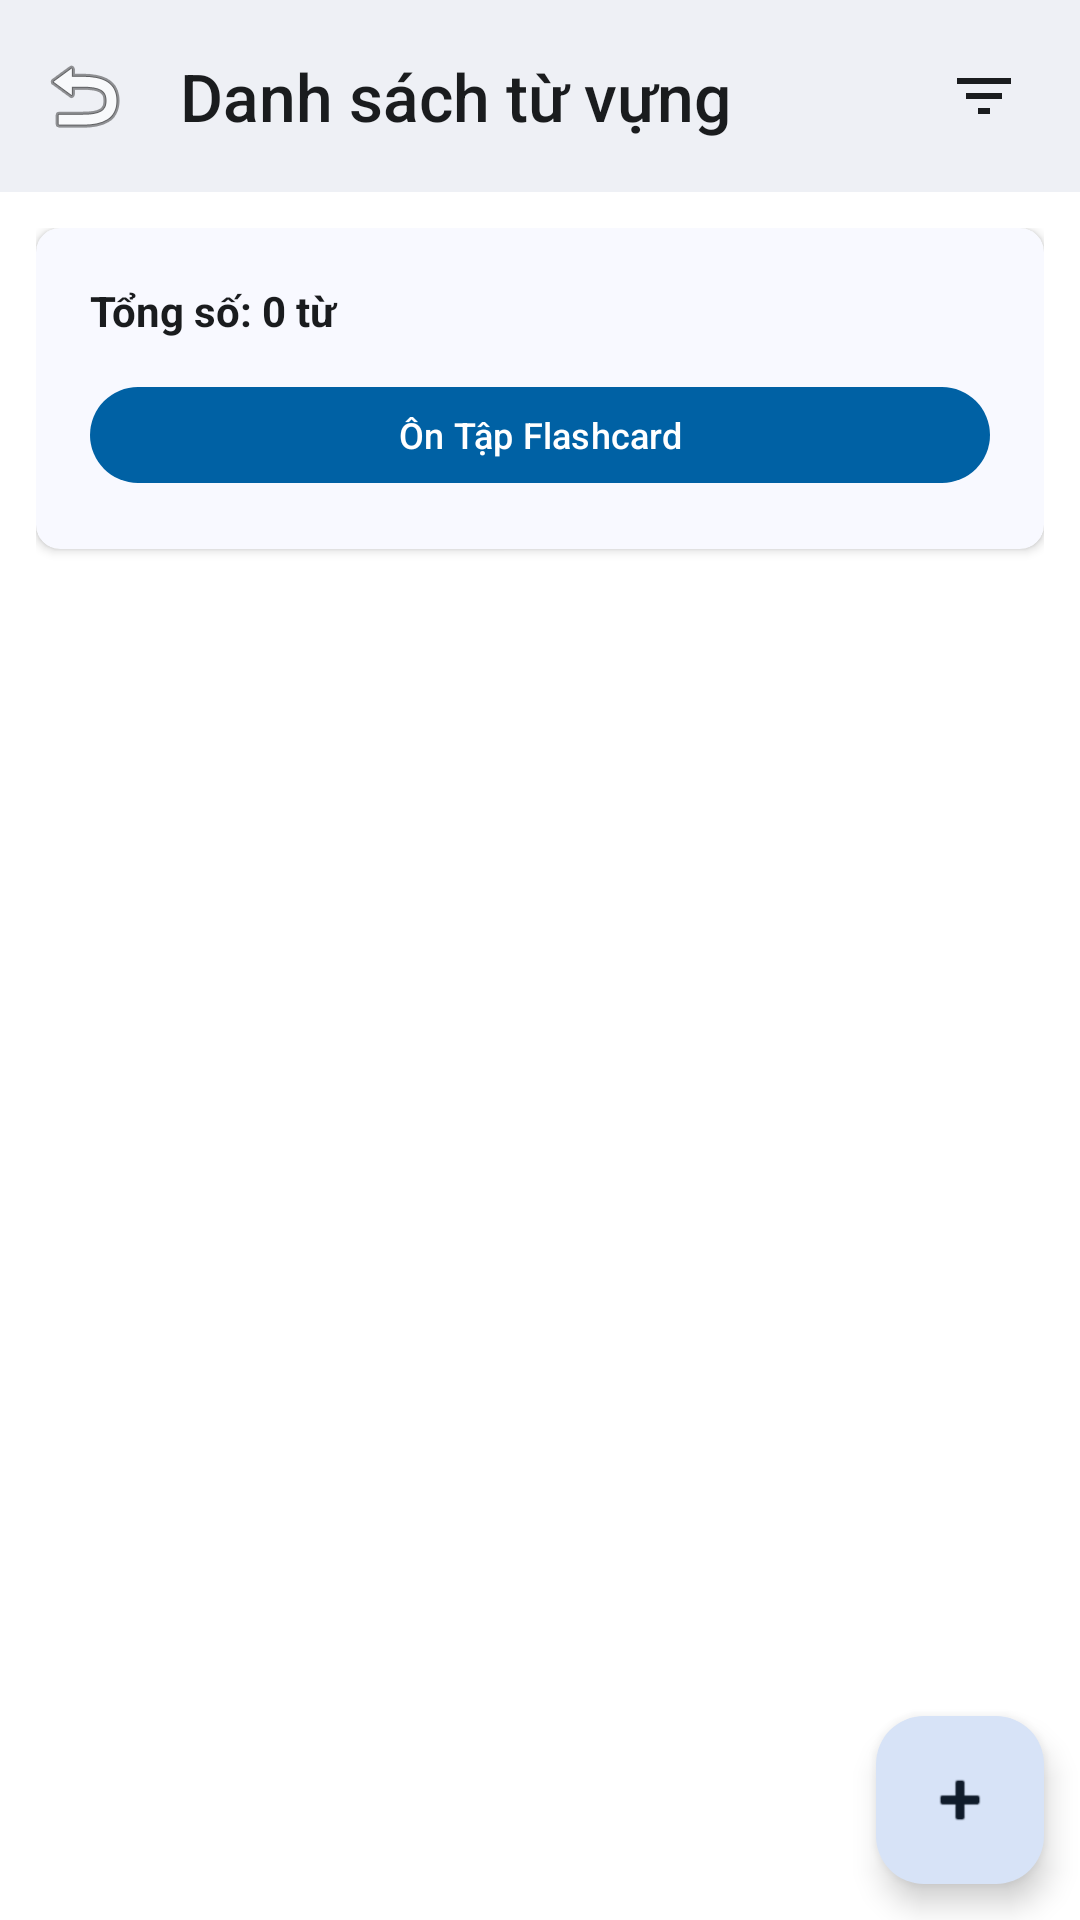

Icons on this 1080 × 1920 Android screen, each with the point to tap as (x=x, y=y):
add: (x=960, y=1800)
Lọc danh sách: (x=984, y=96)
